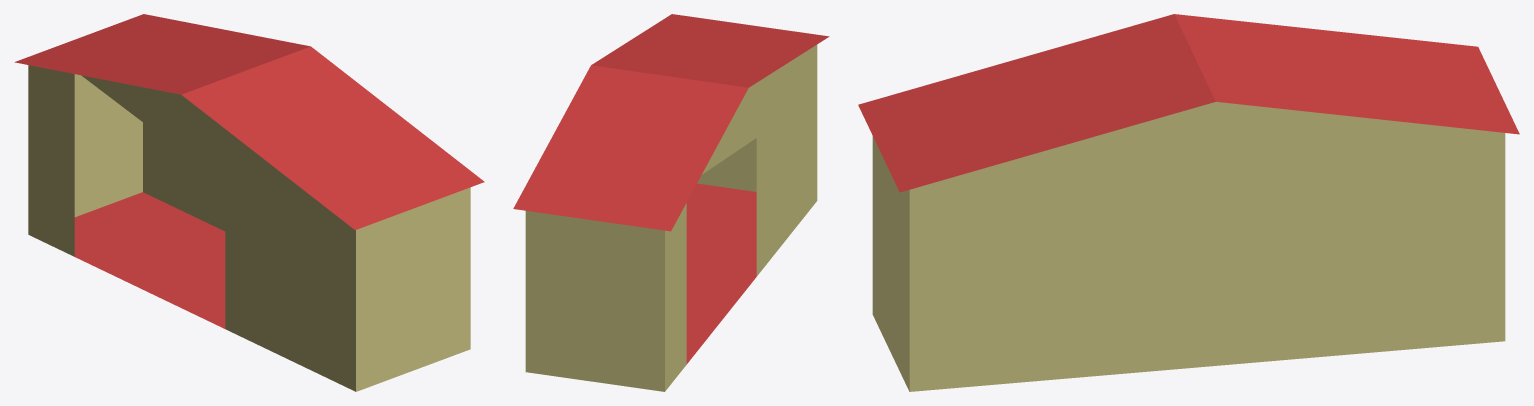
3 renders of one model, left to right at view 1: azimuth 30°, elevation 25°; view 2: azimuth 150°, elevation 25°; view 3: azimuth 270°, elevation 25°, orthographic. The views are drawn at different scales.
Bounding box in the file's own units: 13.42 × 26.71 × 11.99.
